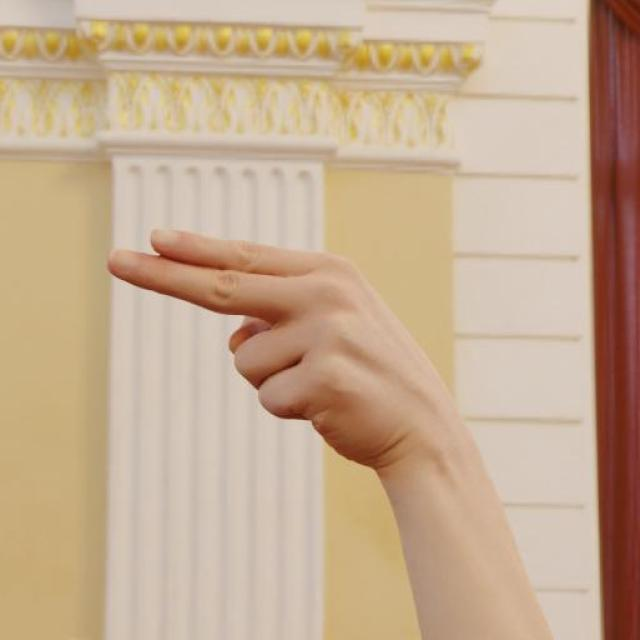H: (105, 225, 450, 455)
